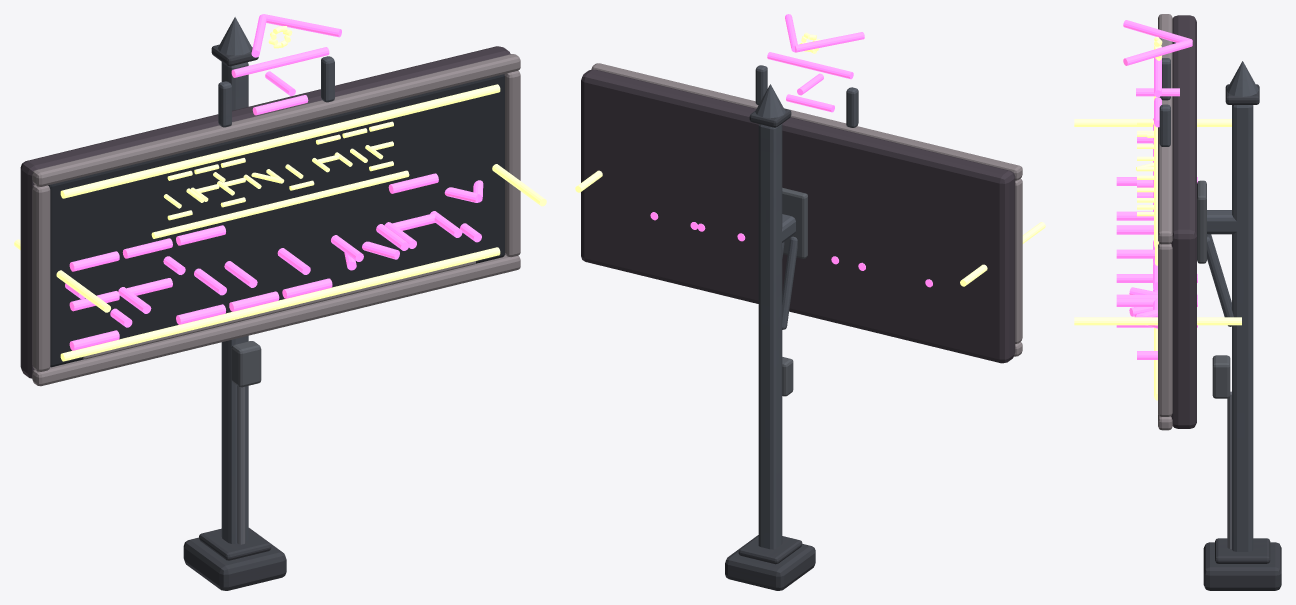
Rendered from sign_bar.glb.
3 views of the same model, side by side, from view 1: azimuth 30°, elevation 25°; view 2: azimuth 150°, elevation 25°; view 3: azimuth 270°, elevation 25° (orthographic). The views are drawn at different scales.
Visible parts, largest first — view 1: sign_bar_face, sign_bar_rail_top, sign_bar_rail_bottom, sign_bar_plate, sign_bar_mast_0, sign_bar_border_s2, sign_bar_border_s0, sign_bar_rail_l, sign_bar_foot_0, sign_bar_rail_r, sign_bar_rule_s0, sign_bar_band (+6 smaller); view 2: sign_bar_plate, sign_bar_mast_0, sign_bar_rail_top, sign_bar_foot_0, sign_bar_rail_l, sign_bar_stiffener_0, sign_bar_footplate_0, sign_bar_brace_0a, sign_bar_crest_rim_s0, sign_bar_finial_0; view 3: sign_bar_plate, sign_bar_mast_0, sign_bar_foot_0, sign_bar_rail_r, sign_bar_rail_top, sign_bar_border_s1, sign_bar_footplate_0, sign_bar_border_s3, sign_bar_stiffener_0, sign_bar_junction, sign_bar_conduit, sign_bar_brace_0b (+15 smaller).
Boxes of the visible parts, bbox=[...] form: sign_bar_face: bbox=[48, 74, 504, 367]; sign_bar_rail_top: bbox=[32, 54, 520, 186]; sign_bar_rail_bottom: bbox=[32, 255, 520, 386]; sign_bar_plate: bbox=[20, 46, 510, 378]; sign_bar_mast_0: bbox=[221, 62, 248, 543]; sign_bar_border_s2: bbox=[60, 84, 500, 198]; sign_bar_border_s0: bbox=[60, 247, 500, 361]; sign_bar_rail_l: bbox=[32, 184, 50, 371]; sign_bar_foot_0: bbox=[183, 528, 286, 590]; sign_bar_rail_r: bbox=[504, 70, 520, 257]; sign_bar_rule_s0: bbox=[151, 170, 409, 238]; sign_bar_band: bbox=[82, 261, 475, 359]; sign_bar_plate: bbox=[581, 69, 1015, 363]; sign_bar_mast_0: bbox=[758, 124, 782, 549]; sign_bar_rail_top: bbox=[591, 63, 1022, 180]; sign_bar_foot_0: bbox=[725, 535, 815, 590]; sign_bar_rail_l: bbox=[1015, 178, 1022, 343]; sign_bar_stiffener_0: bbox=[782, 187, 807, 258]; sign_bar_footplate_0: bbox=[738, 535, 802, 564]; sign_bar_brace_0a: bbox=[782, 236, 797, 329]; sign_bar_crest_rim_s0: bbox=[767, 52, 853, 79]; sign_bar_finial_0: bbox=[755, 84, 785, 118]; sign_bar_plate: bbox=[1171, 15, 1196, 428]; sign_bar_mast_0: bbox=[1232, 105, 1253, 551]; sign_bar_foot_0: bbox=[1203, 542, 1281, 590]; sign_bar_rail_r: bbox=[1158, 243, 1172, 416]; sign_bar_rail_top: bbox=[1158, 14, 1172, 244]; sign_bar_border_s1: bbox=[1074, 317, 1241, 325]; sign_bar_footplate_0: bbox=[1215, 538, 1270, 563]; sign_bar_border_s3: bbox=[1074, 119, 1231, 126]; sign_bar_stiffener_0: bbox=[1197, 180, 1206, 263]; sign_bar_junction: bbox=[1212, 355, 1230, 398]; sign_bar_conduit: bbox=[1227, 391, 1231, 548]; sign_bar_brace_0b: bbox=[1207, 236, 1233, 326].
Size of the model in its own units: 3.2 by 3.65 by 1.27.
79 materials, 3 textured.
